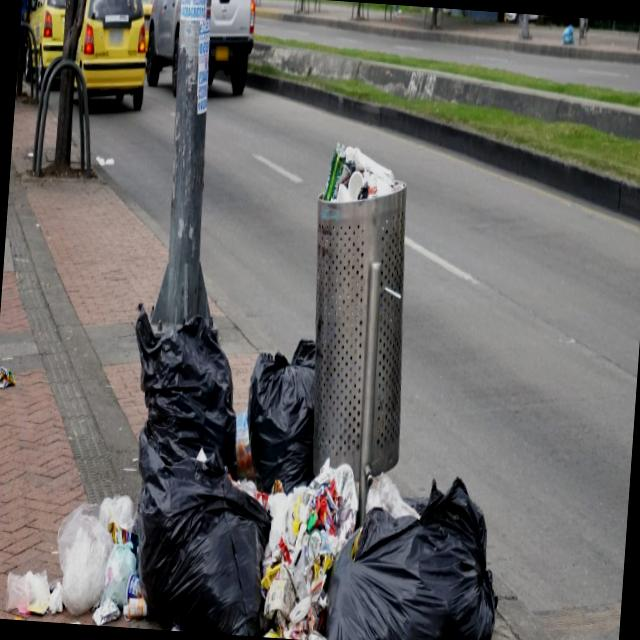garbage: (3, 126, 535, 640)
